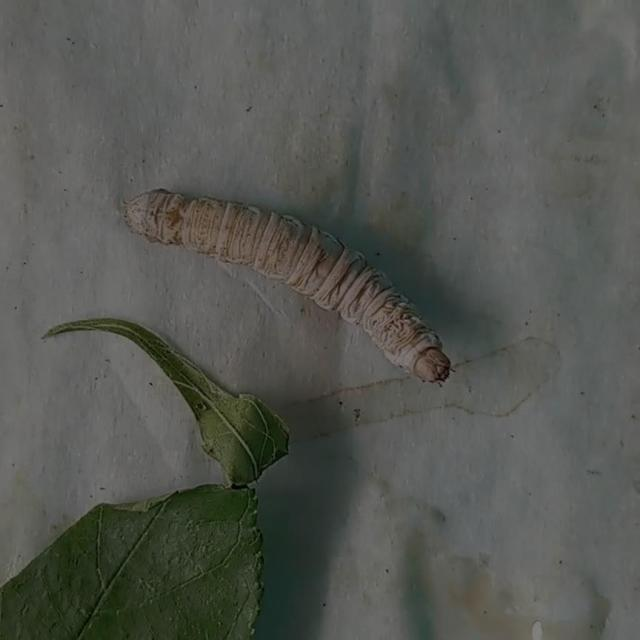Grasserie: (105, 162, 482, 405)
